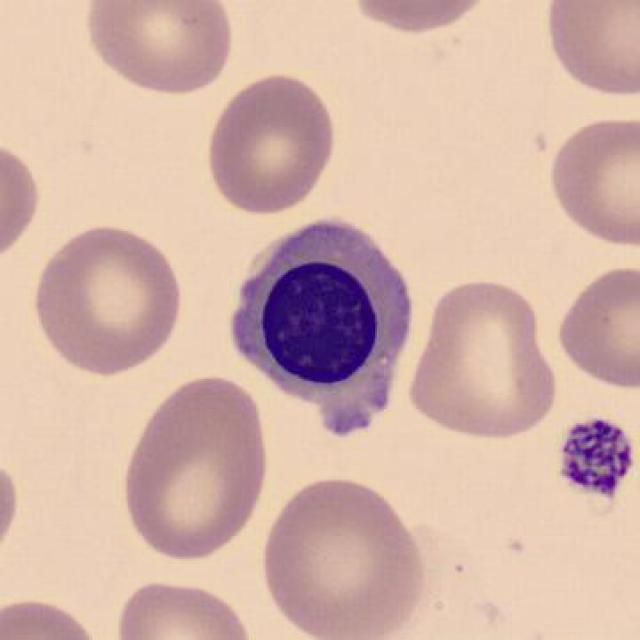Platelets: (550, 406, 636, 518)
RBC: (115, 369, 274, 564), (252, 469, 432, 640), (404, 274, 566, 444), (25, 219, 188, 379), (201, 69, 339, 217), (82, 0, 236, 99), (544, 111, 640, 250), (550, 261, 638, 393), (106, 575, 260, 640), (540, 0, 638, 99), (2, 134, 42, 270), (341, 2, 491, 37), (0, 594, 105, 640)
